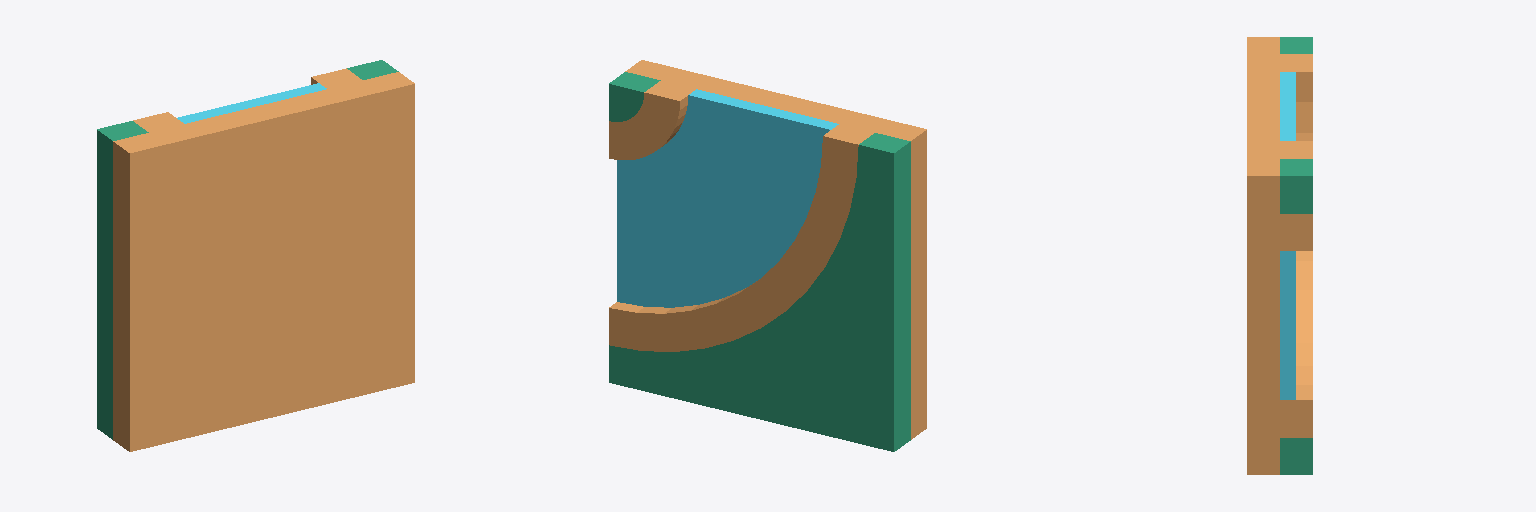
File: tile_riverCorner.obj
The picture shows the model from 3 angles: view 1: azimuth 30°, elevation 25°; view 2: azimuth 150°, elevation 25°; view 3: azimuth 270°, elevation 25°; orthographic projection.
Visible parts, largest first — view 1: tile_riverCorner.015; view 2: tile_riverCorner.015; view 3: tile_riverCorner.015.
Boxes of the visible parts, box(x1,y1,x2,y2) form: tile_riverCorner.015: box(97, 60, 414, 451); tile_riverCorner.015: box(609, 60, 926, 451); tile_riverCorner.015: box(1247, 37, 1312, 474).
Bounding box in the file's own units: 1 × 1 × 0.2.